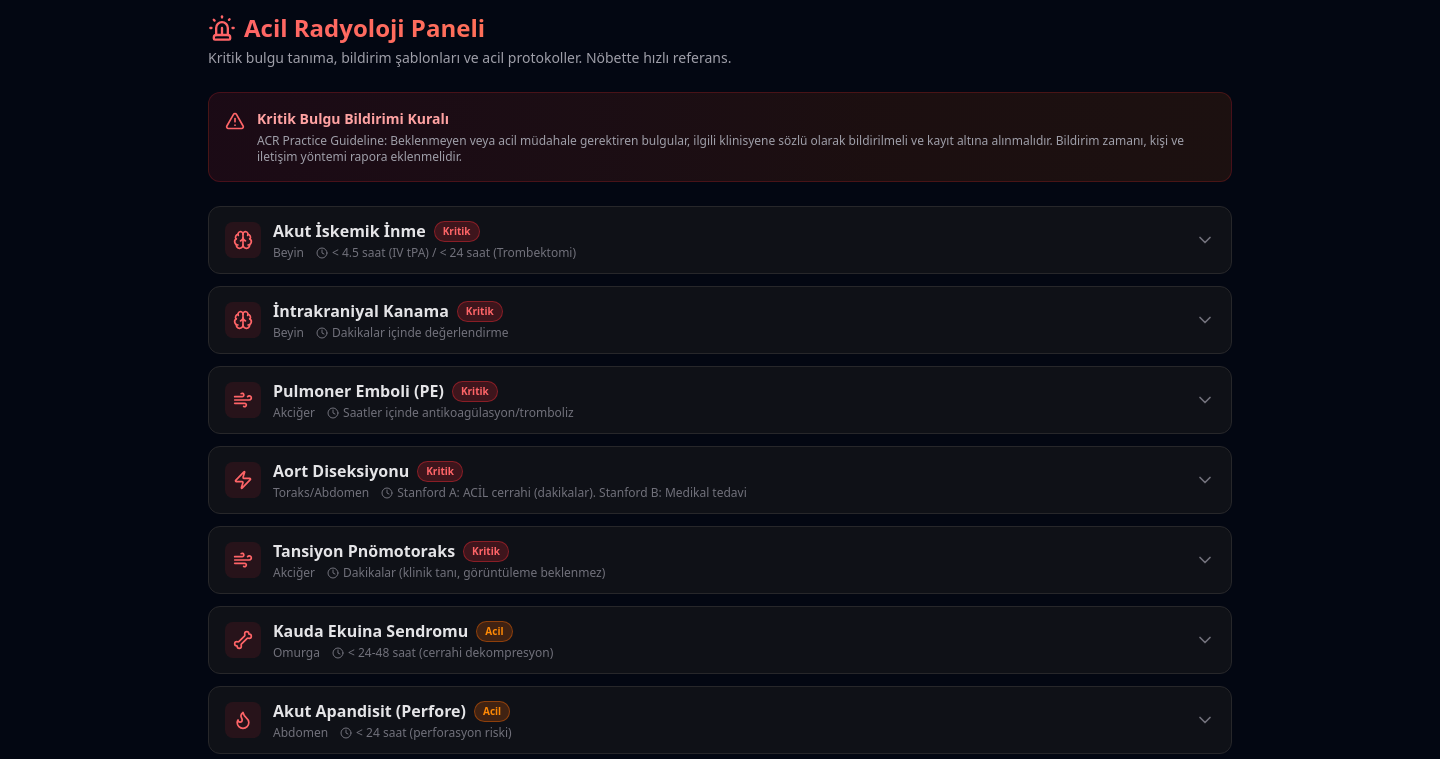
Test: EmergencyPanel › should toggle expanded state on click
Click the button that starts with "Akut İskemik İnme". click: (243, 240)
box: [209, 207, 1231, 273]
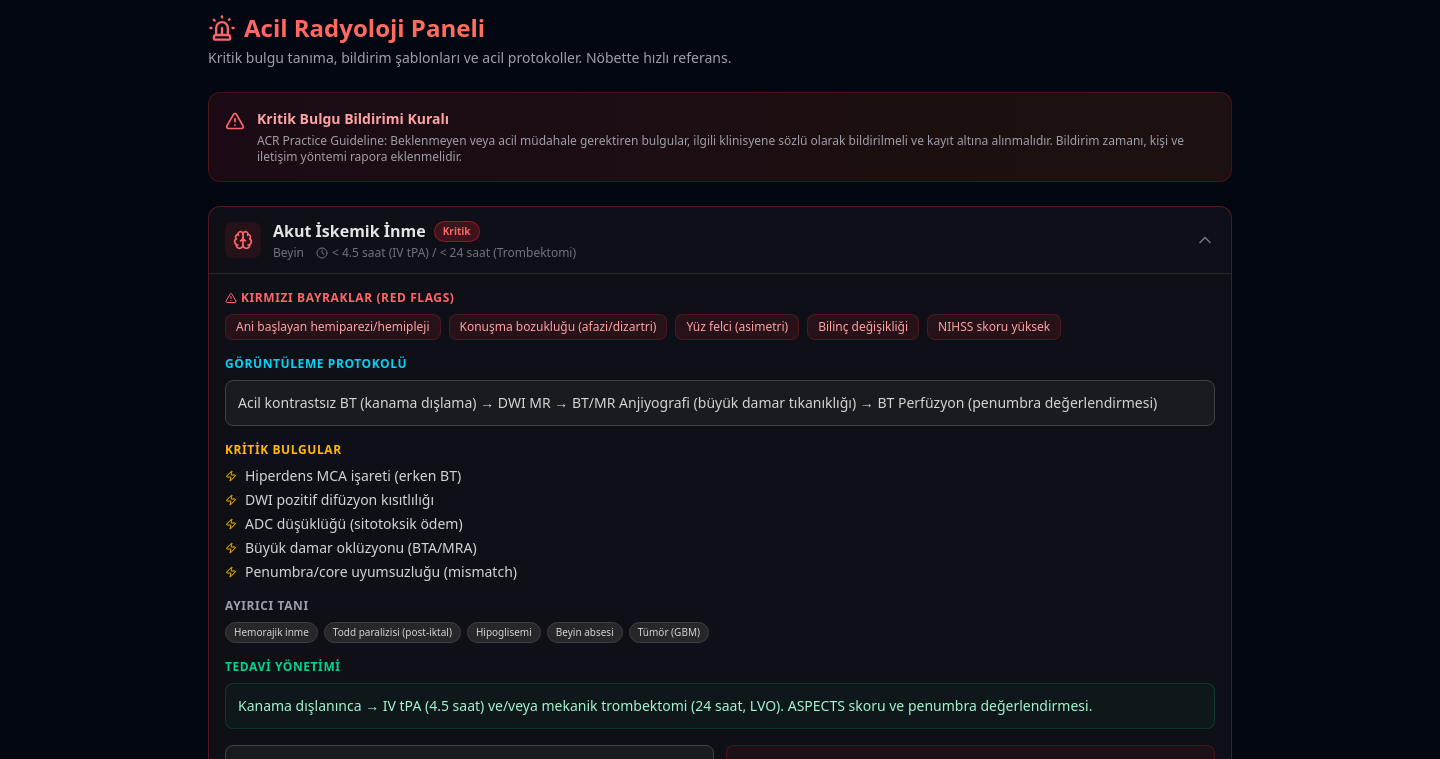
Expected: the button that starts with "Akut İskemik İnme" is expanded, [209, 207, 1231, 273]
